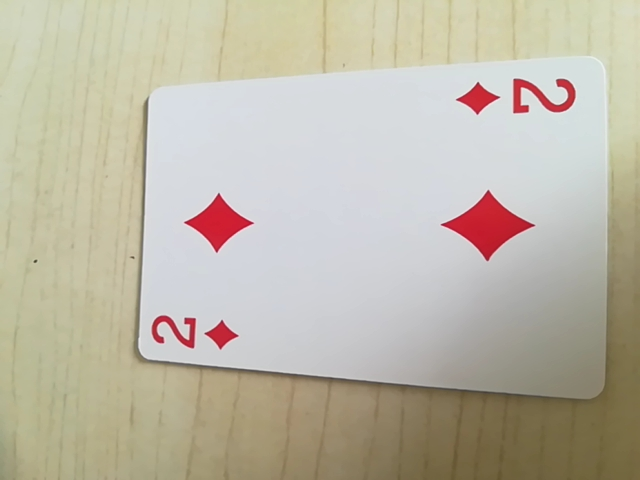fk 2: (458, 69, 583, 125), (147, 303, 246, 359)
